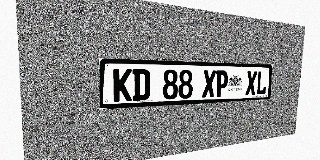8: (162, 69, 178, 99), (178, 70, 193, 99)
D: (132, 69, 150, 101)
K: (113, 69, 132, 102)
L: (256, 71, 267, 95)
P: (215, 70, 229, 97)
X: (202, 70, 216, 98), (245, 71, 257, 95)
